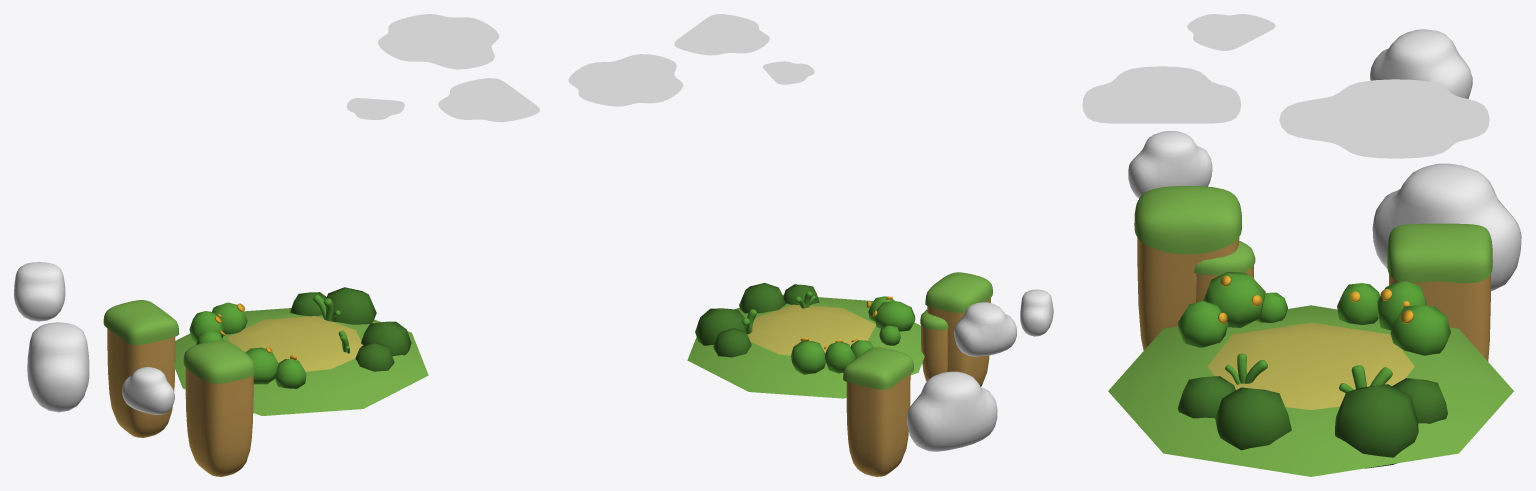
Rendered from Bonk_Scene.fbx.
3 views of the same model, side by side, from view 1: azimuth 30°, elevation 25°; view 2: azimuth 150°, elevation 25°; view 3: azimuth 270°, elevation 25° (orthographic). The views are drawn at different scales.
Parts seen in each view (by area): view 1: Plane, Cube.028, Plane.002, Cube.009, Plane.001, Cube.033, Plane.004, Cube.029, Cube.034, Cube.032, Cube.010, Cube.027 (+8 smaller); view 2: Plane, Cube.009, Cube.033, Plane.002, Plane.001, Plane.004, Cube.029, Cube.034, Cube.032, Cube.028, Cube.010, Cube.027 (+7 smaller); view 3: Plane, Plane.002, Plane.001, Cube.009, Plane.004, Cube.032, Cube.034, Cube.028, Cube.027, Cube.029, Cube.010, Cube.025 (+11 smaller).
Part boxes in pixels (left/top/right/bottom): Plane: left=173, top=308, right=428, bottom=415; Cube.028: left=185, top=367, right=253, bottom=476; Plane.002: left=377, top=14, right=499, bottom=69; Cube.009: left=27, top=322, right=89, bottom=412; Plane.001: left=227, top=316, right=363, bottom=371; Cube.033: left=107, top=328, right=175, bottom=437; Plane.004: left=438, top=78, right=539, bottom=122; Cube.029: left=14, top=262, right=65, bottom=321; Cube.034: left=103, top=300, right=179, bottom=345; Cube.032: left=183, top=340, right=255, bottom=383; Cube.010: left=122, top=367, right=174, bottom=414; Cube.027: left=322, top=287, right=376, bottom=324; Plane: left=687, top=294, right=924, bottom=398; Cube.009: left=906, top=371, right=997, bottom=451; Cube.033: left=846, top=374, right=910, bottom=476; Plane.002: left=568, top=54, right=683, bottom=106; Plane.001: left=747, top=304, right=875, bottom=355; Plane.004: left=674, top=14, right=769, bottom=55; Cube.029: left=954, top=302, right=1016, bottom=356; Cube.034: left=843, top=347, right=913, bottom=389; Cube.032: left=925, top=272, right=992, bottom=313; Cube.028: left=927, top=298, right=990, bottom=386; Cube.010: left=1020, top=289, right=1053, bottom=336; Cube.027: left=695, top=308, right=744, bottom=345; Plane: left=1108, top=305, right=1513, bottom=476; Plane.002: left=1279, top=79, right=1489, bottom=158; Plane.001: left=1207, top=322, right=1414, bottom=409; Cube.009: left=1372, top=163, right=1521, bottom=291; Plane.004: left=1082, top=66, right=1241, bottom=123; Cube.032: left=1134, top=186, right=1241, bottom=254; Cube.034: left=1387, top=223, right=1492, bottom=283; Cube.028: left=1137, top=237, right=1239, bottom=350; Cube.027: left=1335, top=384, right=1418, bottom=468; Cube.029: left=1370, top=29, right=1472, bottom=98; Cube.010: left=1128, top=130, right=1212, bottom=198; Cube.025: left=1215, top=387, right=1291, bottom=450.
Size of the model in its own units: 10178 by 6938 by 5368.
